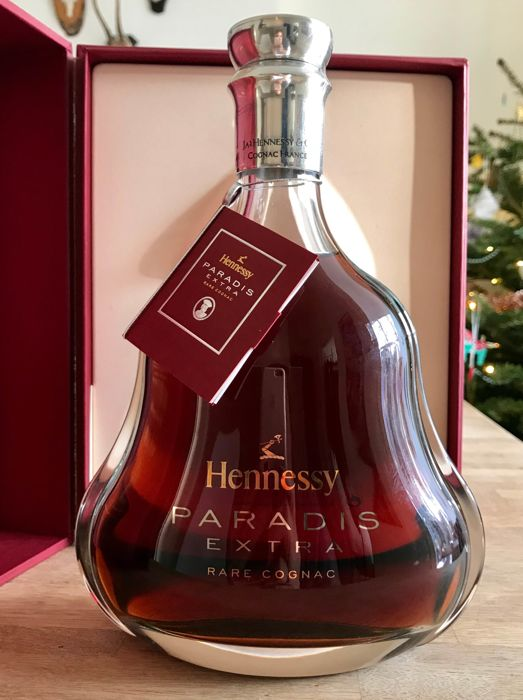Hennessy: (57, 7, 500, 686)
